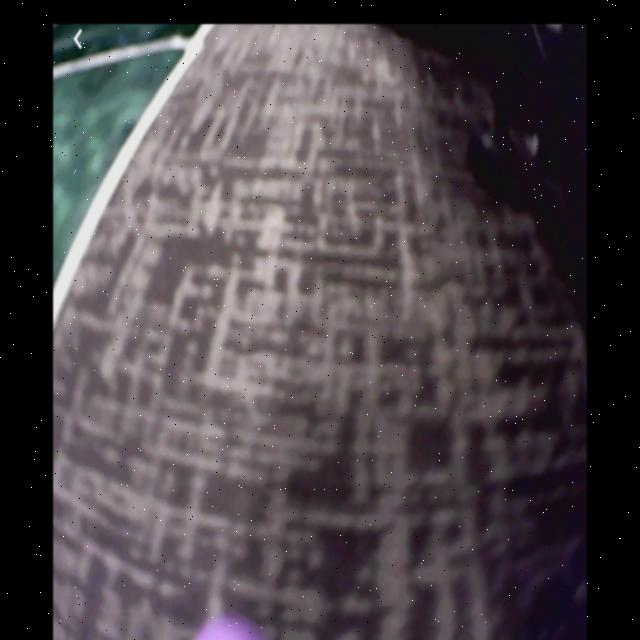ball: (194, 616, 269, 640)
